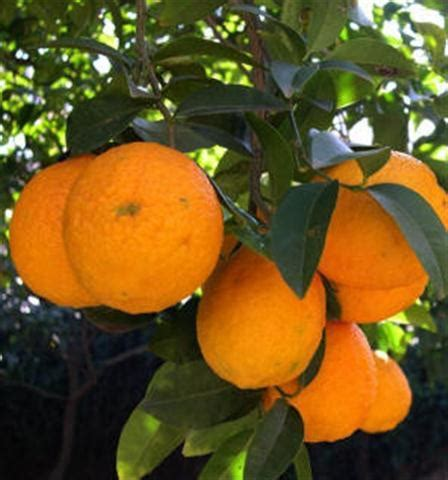orange: (62, 138, 227, 316), (190, 241, 330, 395)
